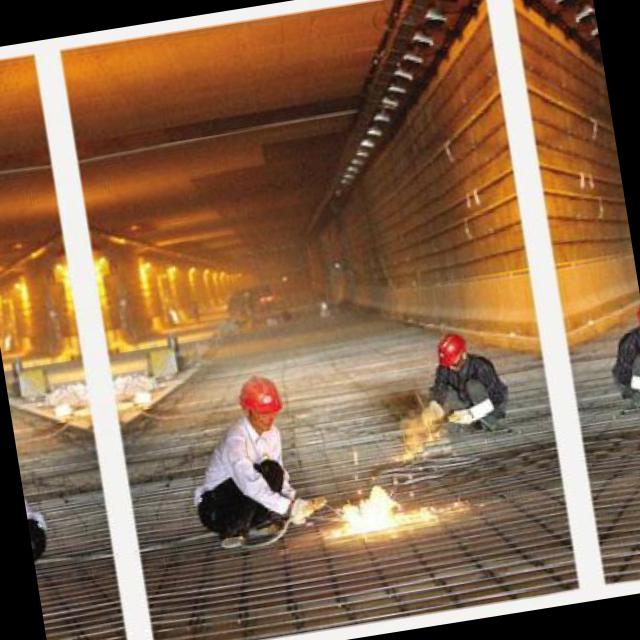helmet: (233, 372, 286, 434), (432, 328, 473, 377), (630, 299, 640, 346)
